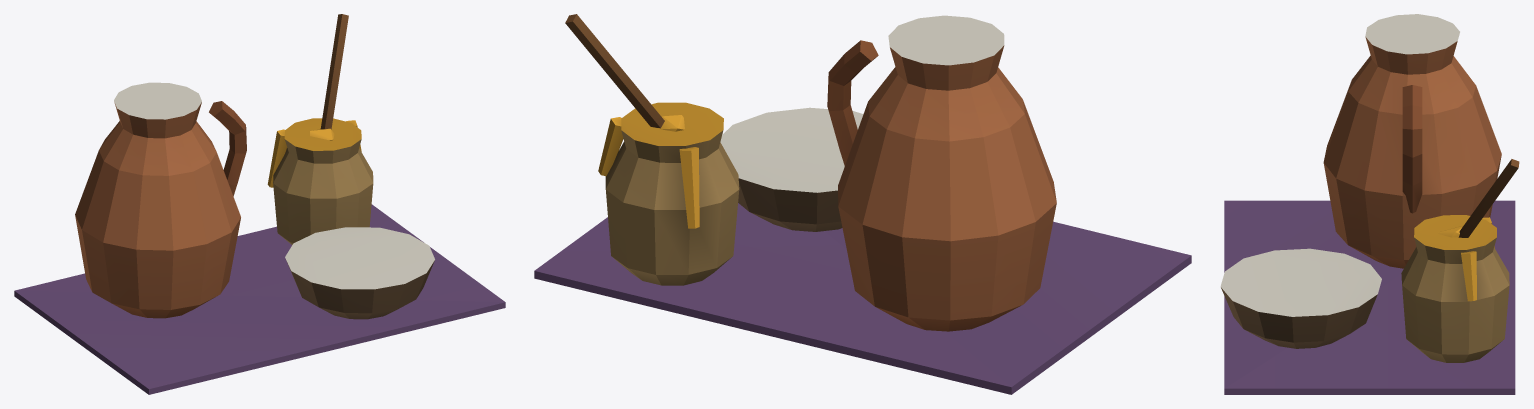
The picture shows the model from 3 angles, left to right: view 1: azimuth 30°, elevation 25°; view 2: azimuth 150°, elevation 25°; view 3: azimuth 270°, elevation 25°; orthographic projection. The views are drawn at different scales.
Parts seen in each view (by area): view 1: base; view 2: base; view 3: base.
Part boxes in pixels (box(x1,y1,x2,y2)): base: box(14, 14, 505, 394); base: box(534, 14, 1191, 394); base: box(1220, 14, 1519, 394).
Size of the model in its own units: 0.52 by 0.288 by 0.3494.
